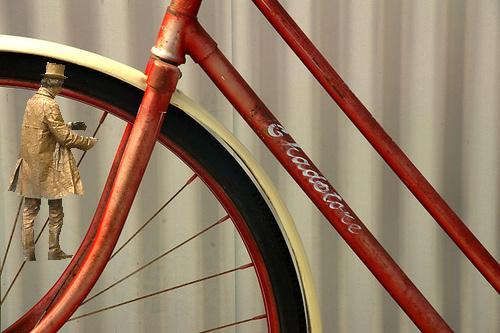tampered: (8, 63, 98, 261)
